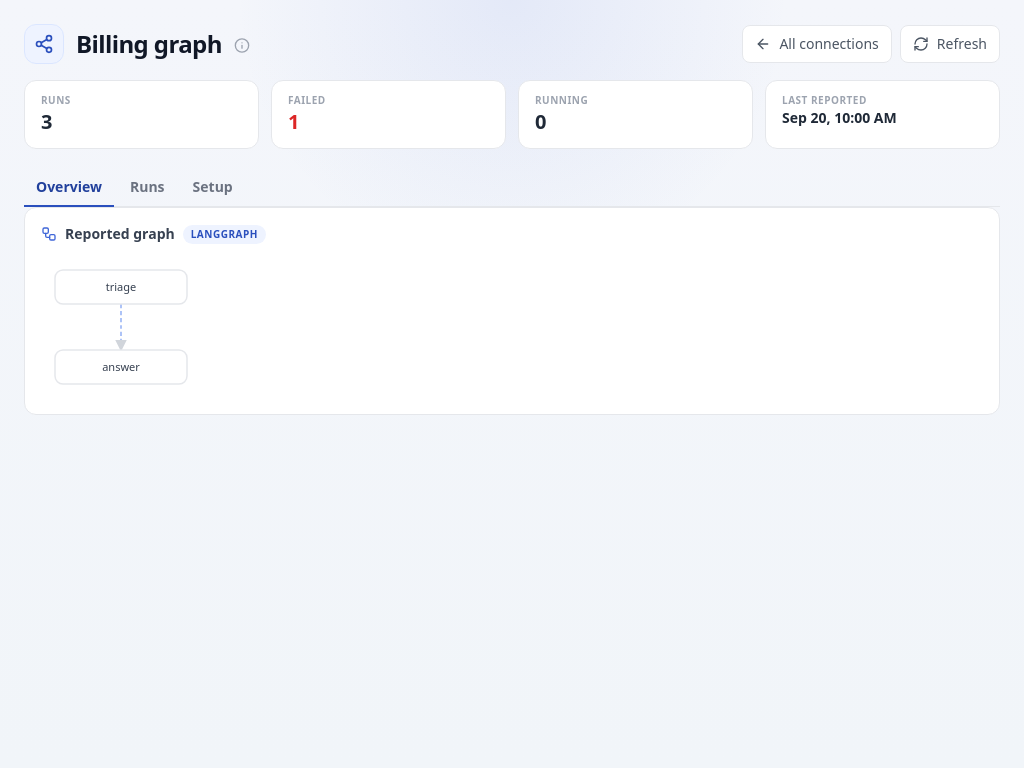
ConnectionDetail › cannot show the stored token, and says so instead of pretending
This screenshot has width=1024, height=768.
Expected: the heading "Billing graph" is shown, [76,28,222,60]
Click the button "Setup" at {"x": 213, "y": 188}, box [181,169,245,207]
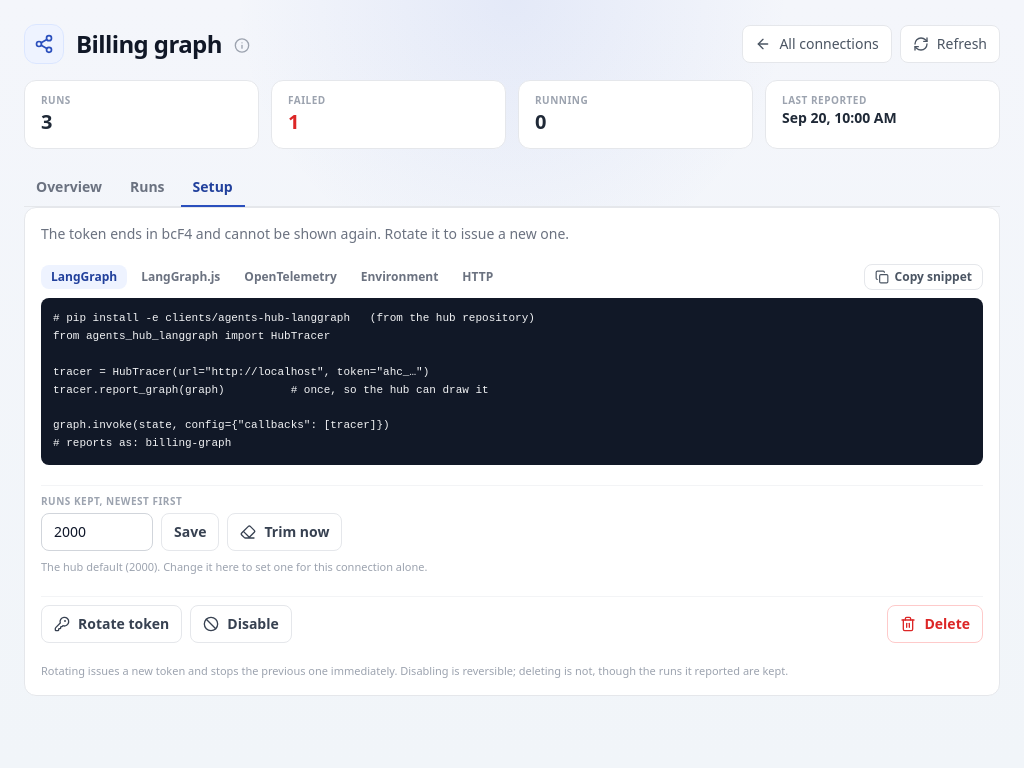
Expected: the text "ends in bcF4" is shown, [41,224,569,243]
Expected: the text "ahc_…" is shown, [53,312,535,449]
